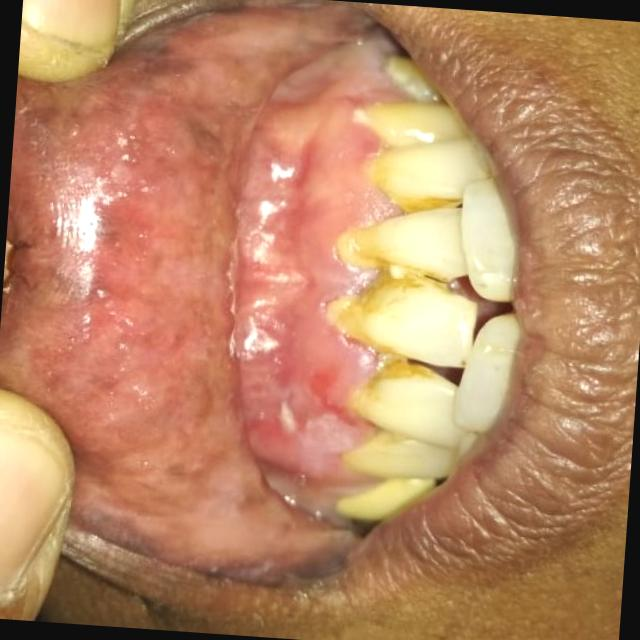Cancer: (1, 11, 302, 557)
